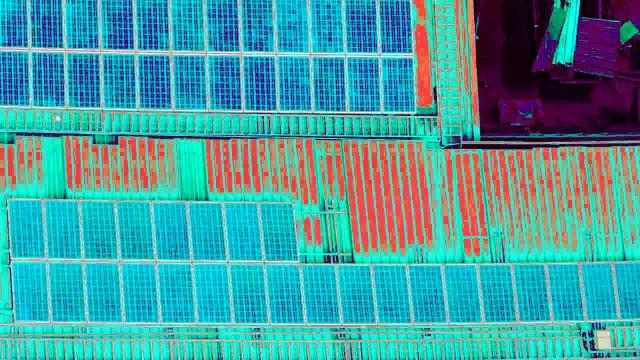dirty: (6, 199, 45, 260), (45, 198, 84, 259), (76, 198, 115, 259), (113, 199, 152, 260), (151, 199, 190, 260), (188, 203, 227, 264), (222, 198, 261, 259), (253, 201, 292, 262), (11, 258, 50, 319), (49, 259, 88, 320), (86, 260, 125, 321), (119, 262, 158, 323), (159, 263, 198, 324), (192, 262, 231, 323), (231, 261, 270, 322), (262, 261, 301, 322), (299, 264, 338, 325), (335, 264, 374, 325), (372, 263, 411, 324), (405, 261, 444, 322), (438, 262, 477, 323), (475, 262, 514, 323), (512, 265, 551, 326), (549, 262, 588, 323), (585, 263, 624, 324)
semi: (28, 49, 67, 111), (62, 50, 101, 112), (98, 49, 137, 111), (131, 50, 170, 112), (166, 48, 205, 110), (202, 50, 241, 112), (238, 51, 277, 113), (273, 55, 312, 117), (308, 54, 347, 116), (338, 53, 377, 115), (376, 54, 415, 116), (378, 2, 414, 52), (346, 1, 382, 51), (240, 1, 276, 51), (309, 1, 345, 50), (272, 1, 308, 50), (204, 1, 240, 50), (171, 1, 207, 50), (133, 1, 169, 50), (102, 1, 138, 50), (66, 1, 102, 50), (29, 1, 65, 50), (1, 1, 29, 49)
